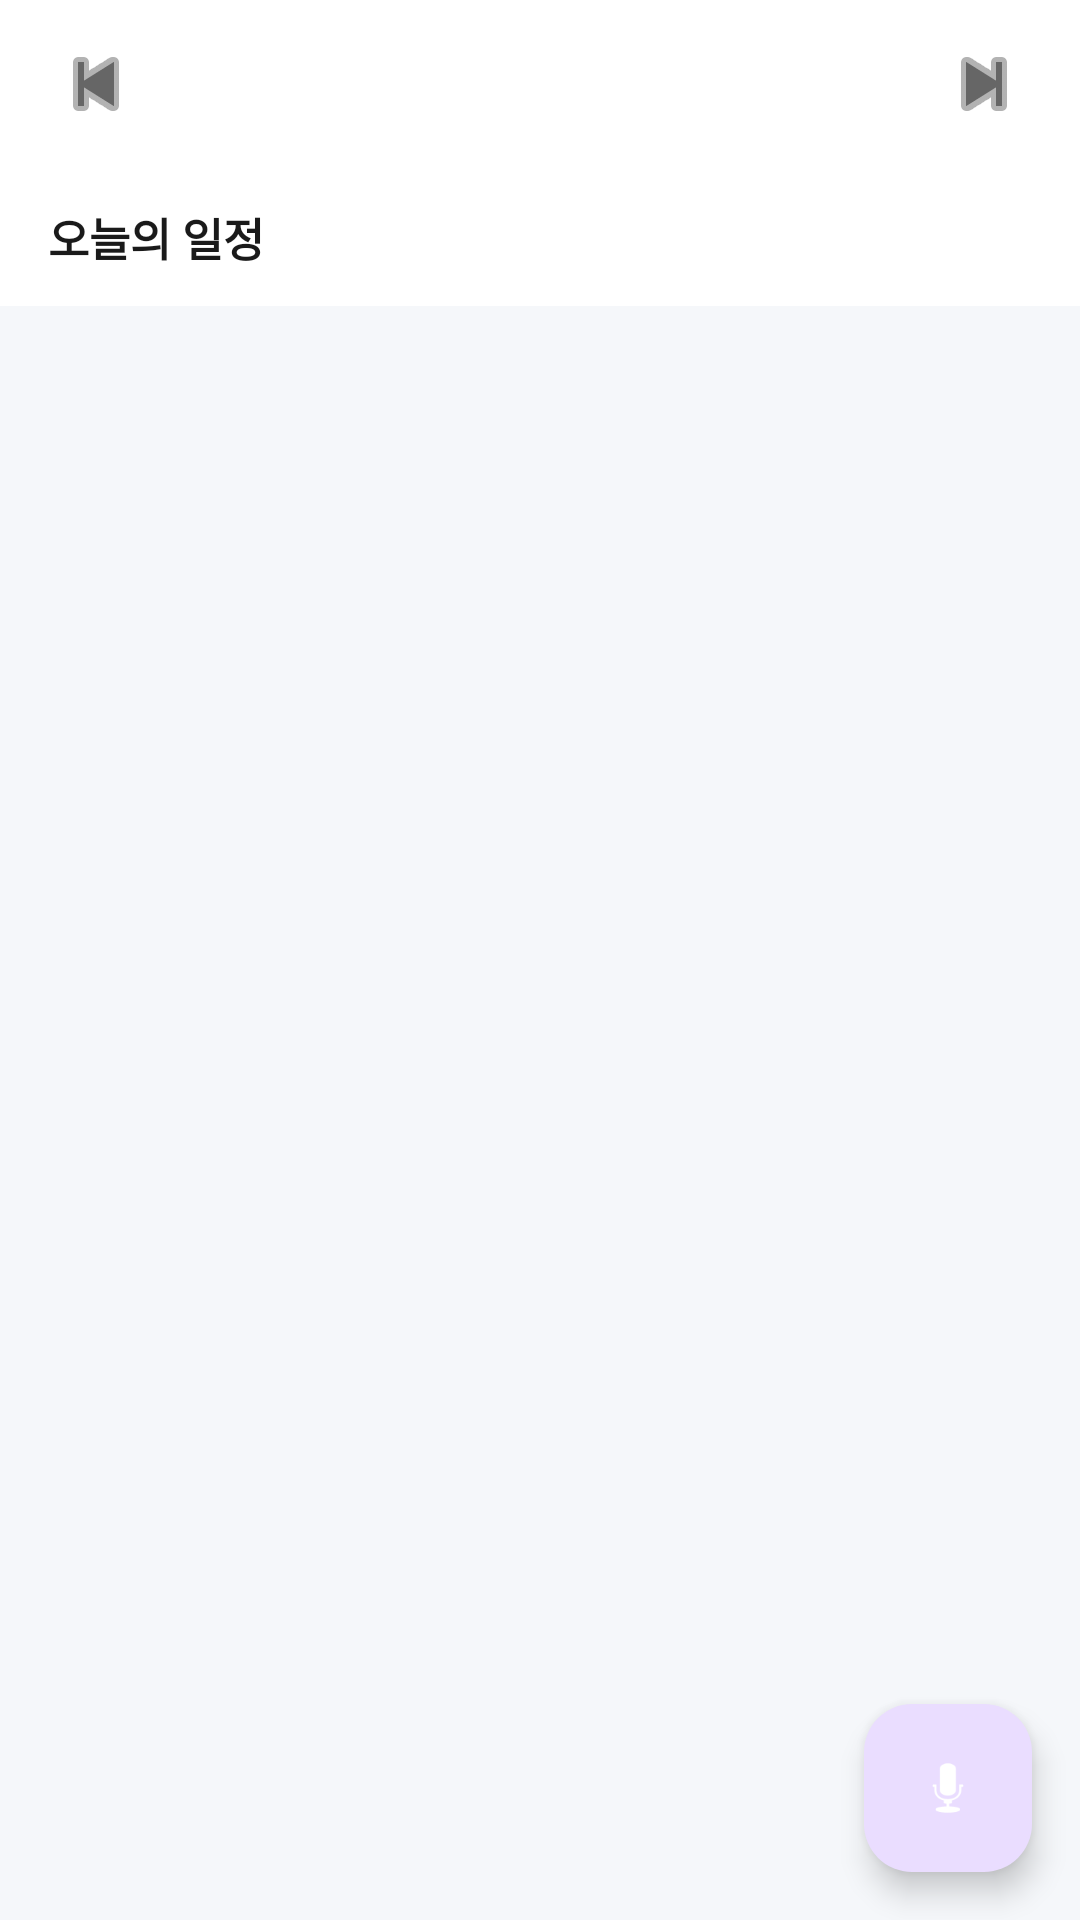

Icon click points for this 1080 x 1920 phone screenshot, format (x,y):
speak now: (948,1788)
다음날: (984,84)
이전날: (96,84)
